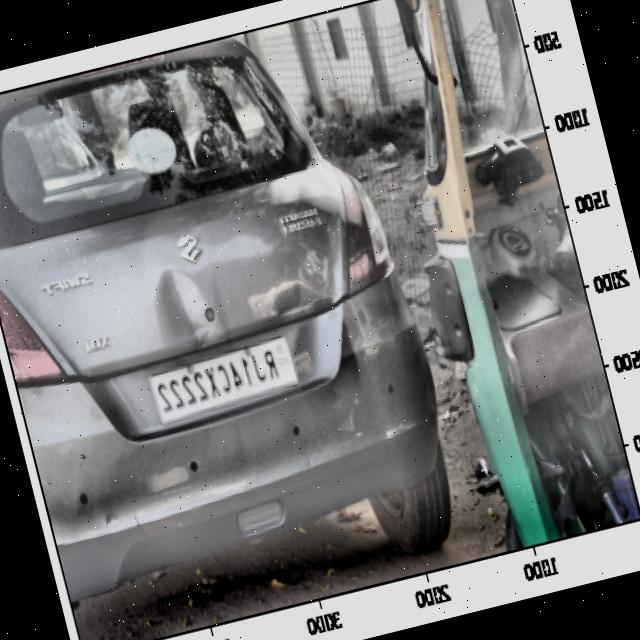license_plate: (146, 344, 287, 426)
